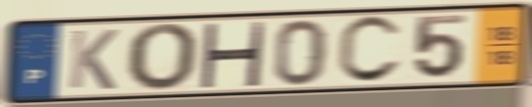0: (271, 17, 331, 88)
5: (412, 14, 472, 81)
C: (334, 13, 404, 87)
H: (196, 21, 268, 88)
K: (65, 27, 121, 92)
O: (125, 21, 202, 94)
